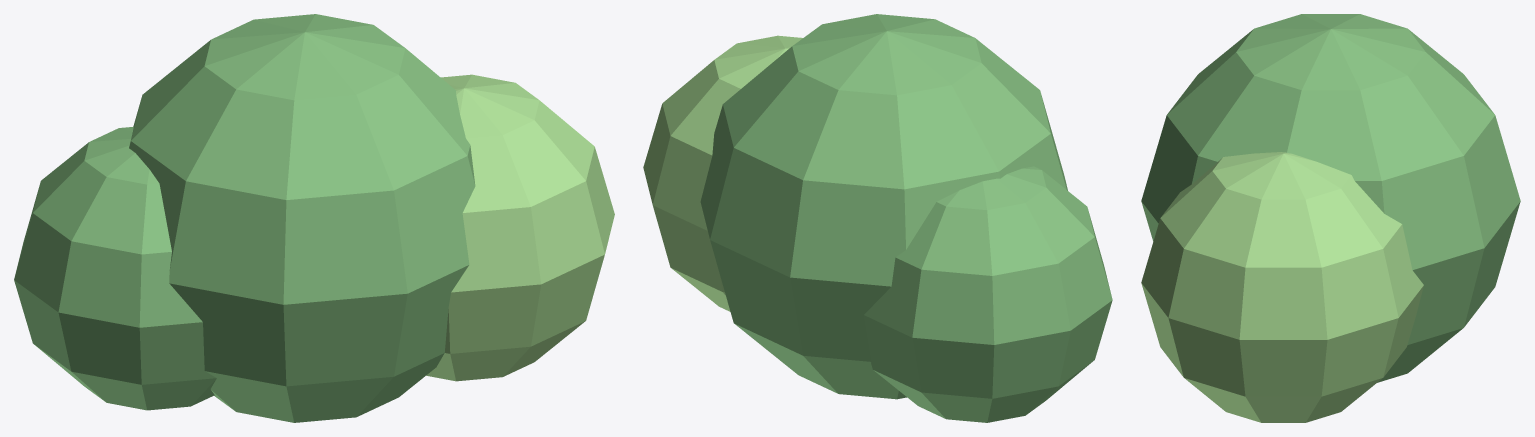
Rendered from SM_Env_Bush_01.glb.
The picture shows the model from 3 angles, left to right: view 1: azimuth 30°, elevation 25°; view 2: azimuth 150°, elevation 25°; view 3: azimuth 270°, elevation 25°; orthographic projection. The views are drawn at different scales.
Visible parts, largest first — view 1: SM_Bush_1, SM_Bush_2, SM_Bush_3; view 2: SM_Bush_1, SM_Bush_3, SM_Bush_2; view 3: SM_Bush_1, SM_Bush_2.
Part boxes in pixels (box(x1,y1,x2,y2)): SM_Bush_1: box(129, 14, 475, 422); SM_Bush_2: box(426, 74, 614, 381); SM_Bush_3: box(14, 126, 216, 410); SM_Bush_1: box(700, 14, 1067, 399); SM_Bush_3: box(864, 166, 1112, 422); SM_Bush_2: box(643, 35, 802, 311); SM_Bush_1: box(1141, 14, 1520, 382); SM_Bush_2: box(1141, 152, 1423, 422).
Size of the model in its own units: 1.13 by 0.8 by 0.8.
